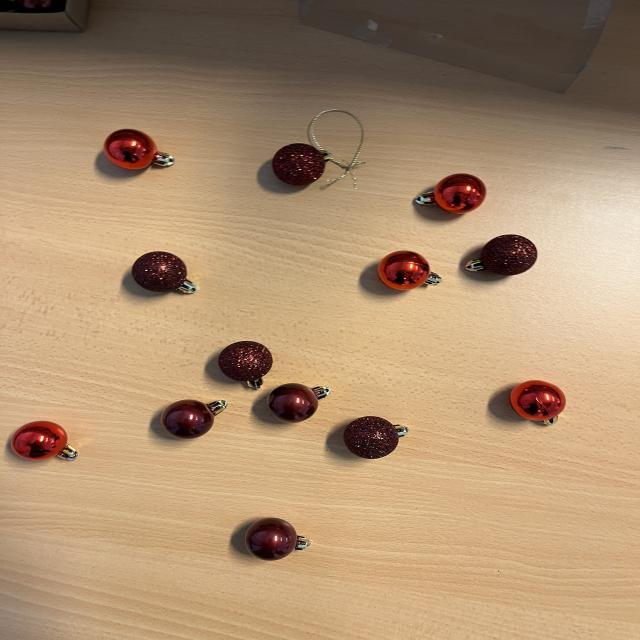glitter-bauble: (459, 231, 545, 286), (335, 411, 415, 462), (125, 248, 202, 300), (267, 137, 337, 193), (208, 337, 275, 391), (465, 234, 537, 276), (343, 416, 408, 459), (132, 251, 197, 294), (219, 341, 273, 390), (272, 143, 332, 186)
glossy-bauble: (406, 168, 495, 220), (96, 121, 177, 176), (5, 418, 83, 468), (375, 246, 444, 295), (506, 378, 570, 430), (104, 129, 175, 170), (415, 174, 486, 214), (11, 421, 77, 461), (510, 380, 566, 426), (377, 251, 441, 290)
wine-red-bauble: (236, 513, 320, 562), (156, 392, 230, 441), (264, 382, 341, 427), (245, 518, 310, 561), (161, 399, 228, 439), (266, 383, 331, 423)
